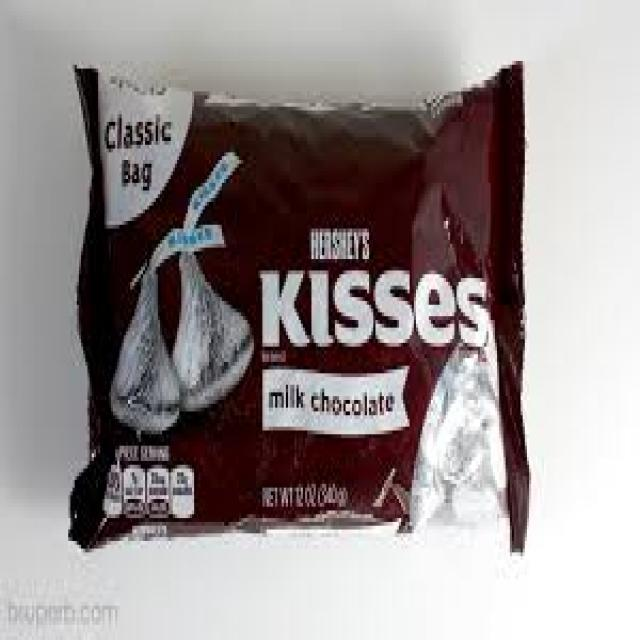kisses: (171, 246, 257, 421), (98, 272, 183, 439), (442, 406, 486, 496)
